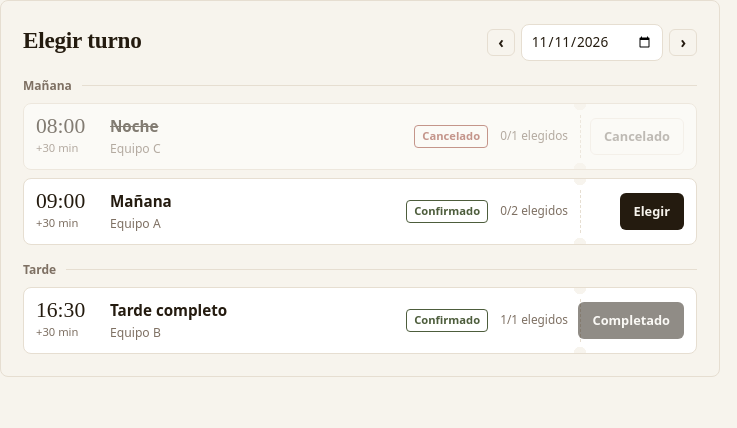
Test case: TurnoPicker (componente del usuario) › without a user identifier it warns instead of booking
Click the button "Elegir" at (652,211), box [620,193,684,230]
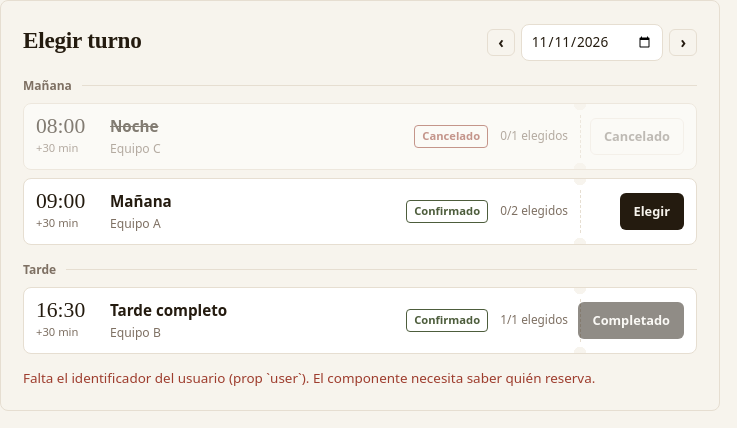
Check: the text "Falta el identificador" is shown, box [23,369,595,387]
